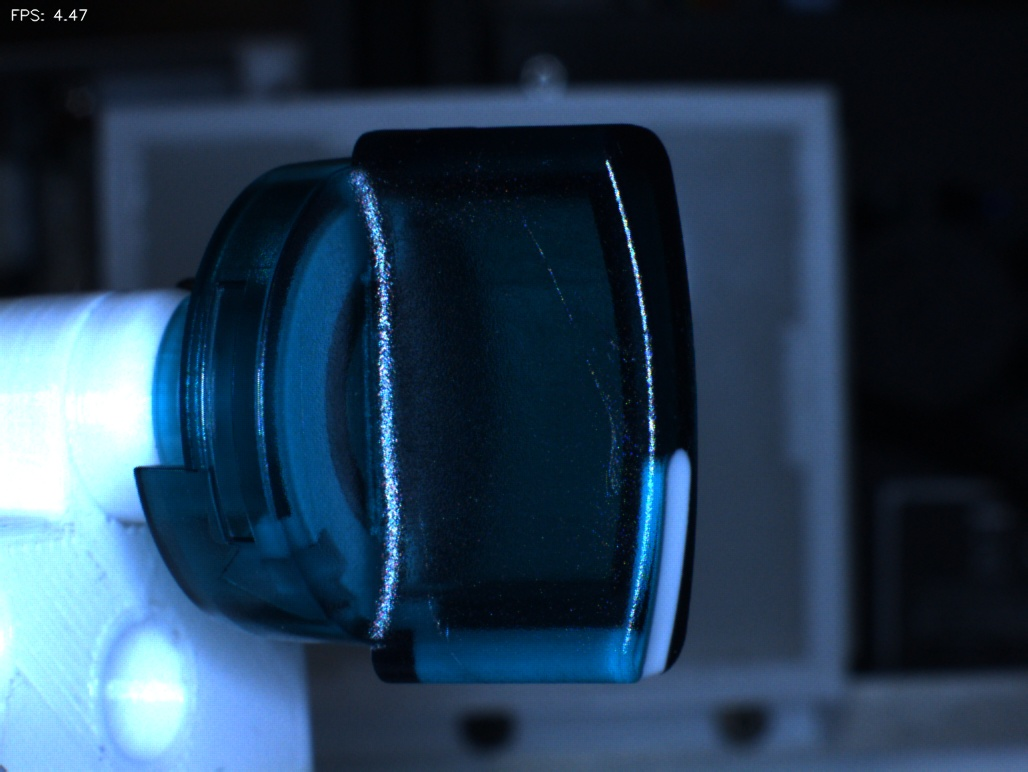Givrage: (519, 212, 646, 509)
